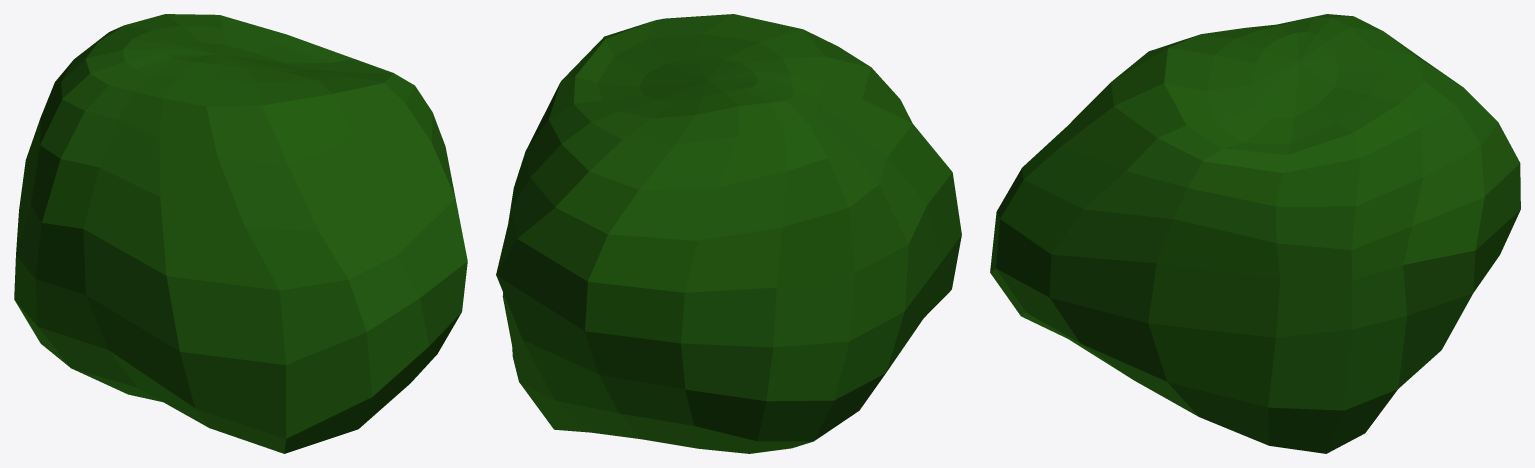
File: Bush.fbx
The picture shows the model from 3 angles, left to right: view 1: azimuth 30°, elevation 25°; view 2: azimuth 150°, elevation 25°; view 3: azimuth 270°, elevation 25°; orthographic projection. The views are drawn at different scales.
Parts seen in each view (by area): view 1: Bush; view 2: Bush; view 3: Bush.
Part boxes in pixels (x1,y1,x2,y2): Bush: [14, 14, 467, 453]; Bush: [496, 14, 961, 453]; Bush: [990, 14, 1520, 453].
Bounding box in the file's own units: 192 × 185 × 261.
